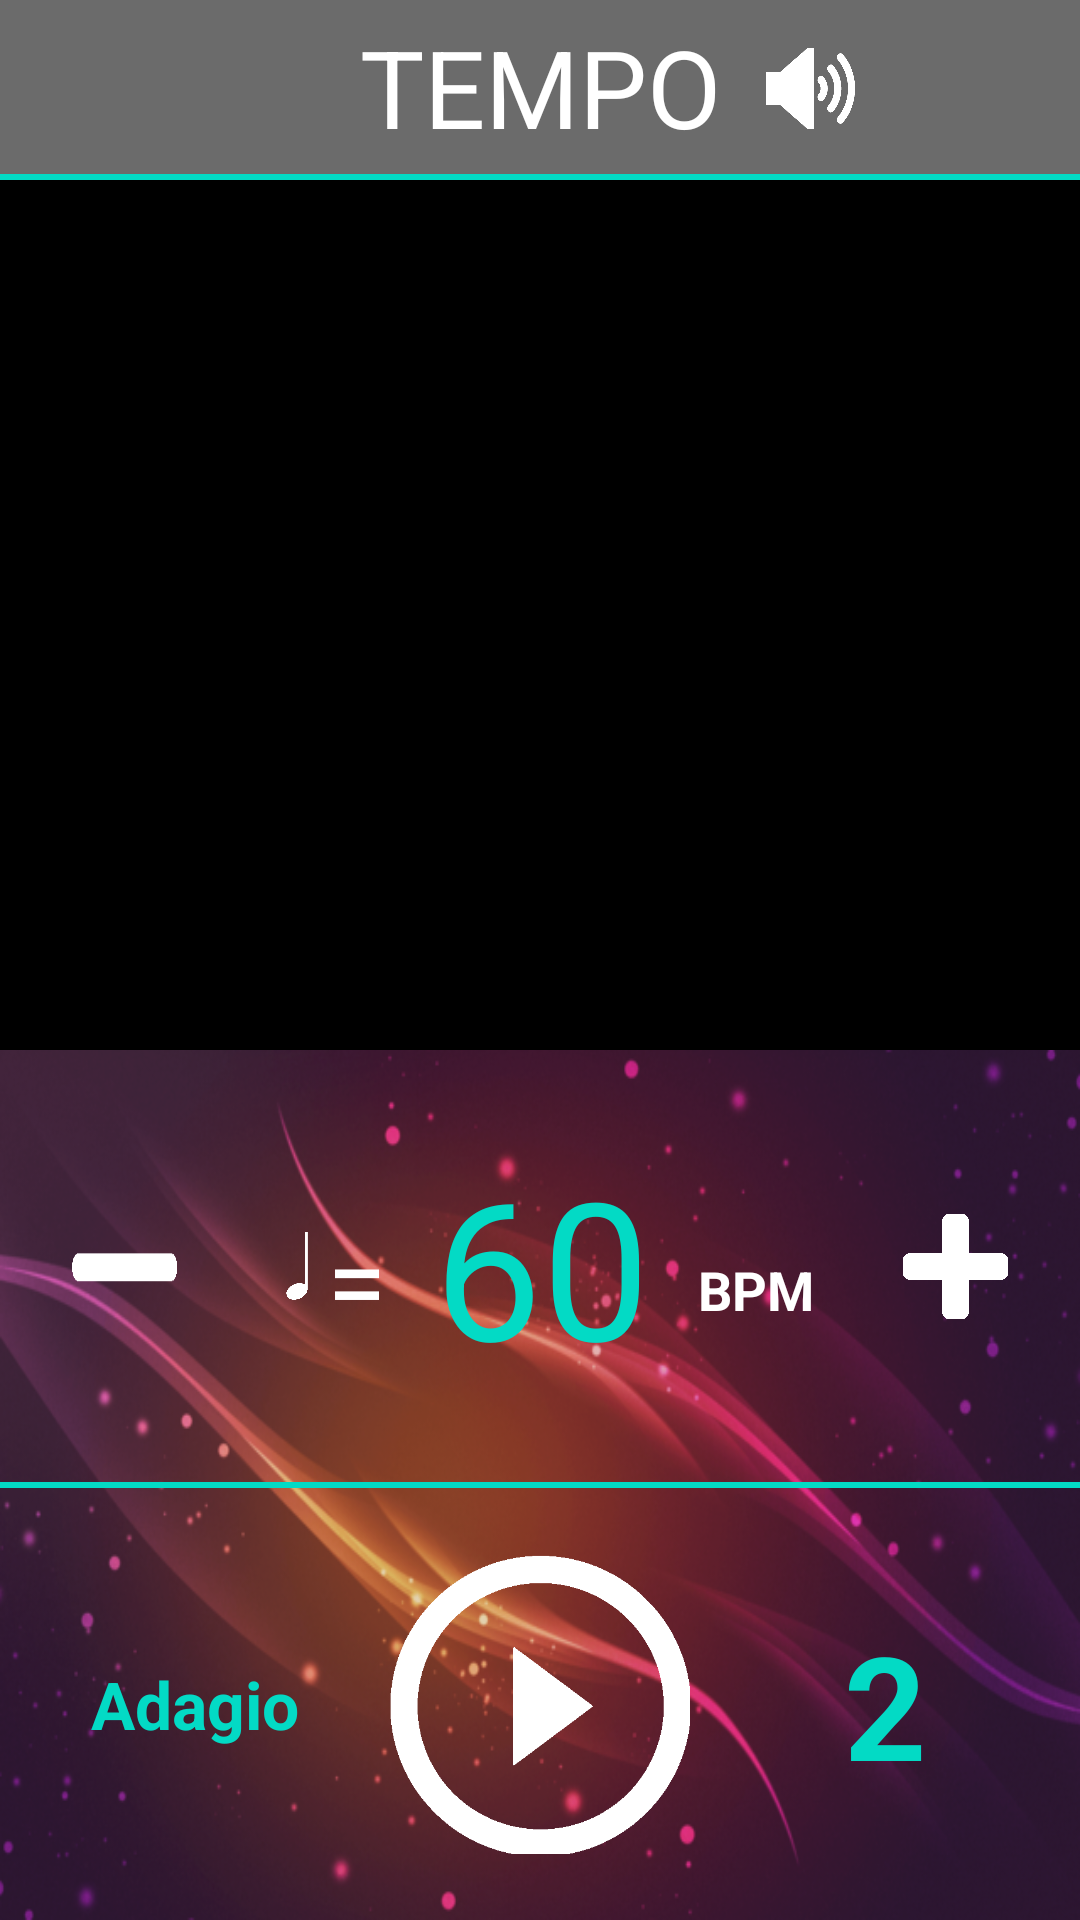

Icons on this 1080 x 1920 Android screen, each with the point to tap as point (x, y):
decrease tempo: point (124, 1286)
increase tempo: point (955, 1266)
quarter note: point (297, 1266)
